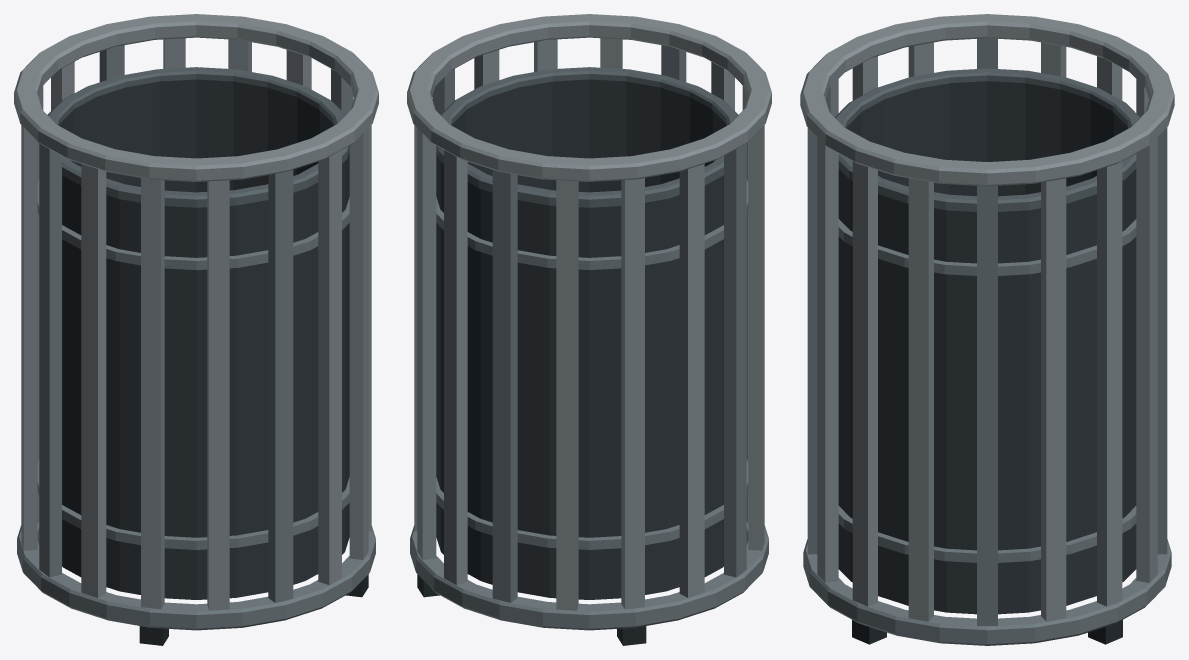
Rendered from lwf_bin_slatted_shell_v1.glb.
3 renders of one model, left to right at view 1: azimuth 30°, elevation 25°; view 2: azimuth 150°, elevation 25°; view 3: azimuth 270°, elevation 25°, orthographic. The views are drawn at different scales.
Parts seen in each view (by area): view 1: LWF_Bin_Slatted_Shell; view 2: LWF_Bin_Slatted_Shell; view 3: LWF_Bin_Slatted_Shell.
Boxes of the visible parts, <box> form: LWF_Bin_Slatted_Shell: <box>14,14,378,645</box>; LWF_Bin_Slatted_Shell: <box>407,14,771,645</box>; LWF_Bin_Slatted_Shell: <box>800,14,1174,645</box>.
Size of the model in its own units: 0.65 by 0.95 by 0.65.
Materials: 1 (1 with a texture image).
